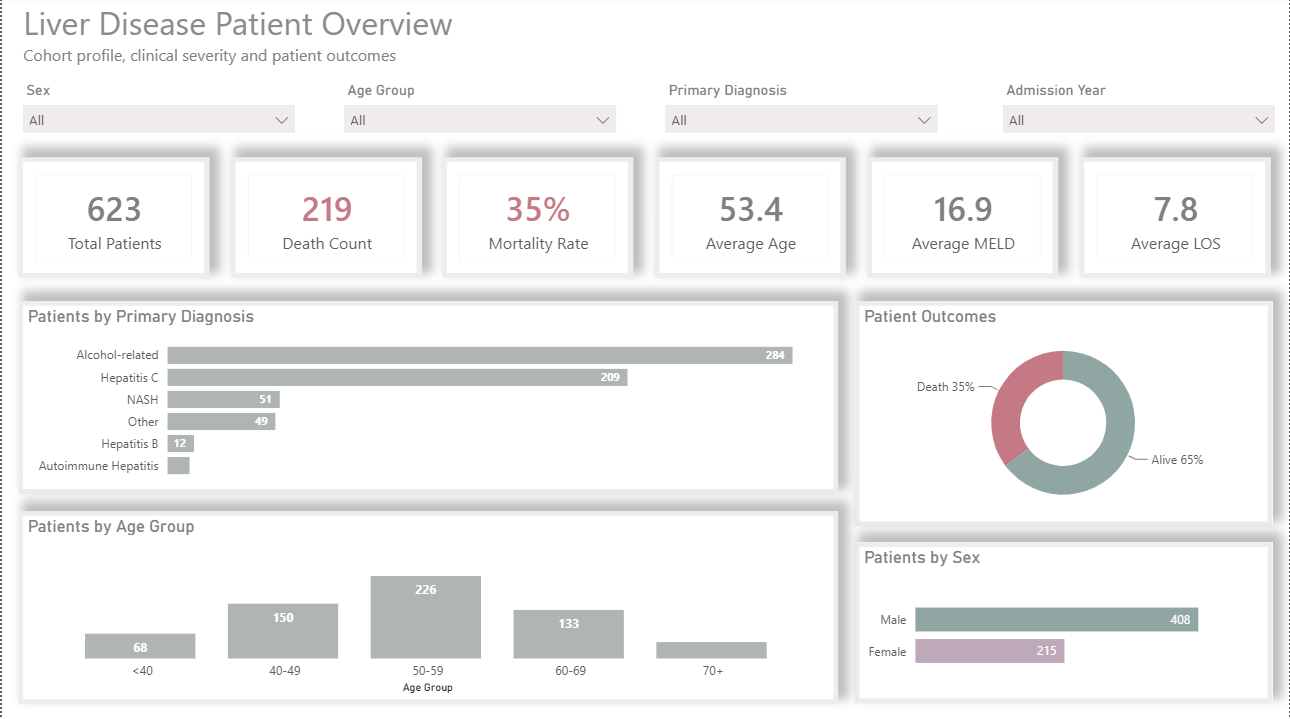

The dashboard page shown, as its layout file describes it:
{"tool":"powerbi","page":{"name":"Overview","canvas":[1280,720],"ordinal":0},"visuals":[{"type":"cardVisual","fields":{"Data":["Measures (2).Total Patients"]},"box":[16,160,190,120],"z":0},{"type":"cardVisual","fields":{"Data":["Measures (2).Death Count"]},"box":[227.2,160,190,120],"z":1000},{"type":"cardVisual","fields":{"Data":["Measures (2).Mortality Rate"]},"box":[438.4,160,190,120],"z":2000},{"type":"cardVisual","fields":{"Data":["Measures (2).Average Age"]},"box":[649.6,160,190,120],"z":3000},{"type":"cardVisual","fields":{"Data":["Measures (2).Average MELD"]},"box":[860.8,160,190,120],"z":4000},{"type":"cardVisual","fields":{"Data":["Measures (2).Average LOS"]},"box":[1072,160,190,120],"z":5000},{"type":"textbox","box":[16,0,656,80],"z":6000},{"type":"slicer","fields":{"Values":["Liver_Data.Sex"]},"box":[16,85,280,60],"z":7000},{"type":"slicer","fields":{"Values":["Liver_Data.Age_Group"]},"box":[336,85,280,60],"z":8000},{"type":"slicer","fields":{"Values":["Liver_Data.Primary_Diagnosis"]},"box":[656,85,280,60],"z":9000},{"type":"slicer","fields":{"Values":["Liver_Data.Admission_Year"]},"box":[992,85,280,60],"z":10000},{"type":"clusteredBarChart","title":"Patients by Primary Diagnosis","fields":{"Y":["KPI Measures.Total Patients"],"Category":["Liver_Data.Primary_Diagnosis"]},"box":[16,304,816,192],"z":11000},{"type":"donutChart","title":"Patient Outcomes","fields":{"Category":["Liver_Data.Outcome"],"Y":["KPI Measures.Patient Count"]},"box":[848,304,416,224],"z":12000},{"type":"barChart","title":"Patients by Sex","fields":{"Category":["Liver_Data.Sex"],"Y":["KPI Measures.Total Patients"]},"box":[848,544,416,160],"z":13000},{"type":"clusteredColumnChart","title":"Patients by Age Group","fields":{"Category":["Liver_Data.Age_Group"],"Y":["KPI Measures.Total Patients"]},"box":[16,512,816,192],"z":14000}]}

Visuals, with their boxes in screenshot pixels (x1, y1, x2, y2), scaled from the page's 1280x720 canvas onto the 1290x719 screenshot:
cardVisual - Measures (2).Total Patients: locate(16, 160, 208, 280)
cardVisual - Measures (2).Death Count: locate(229, 160, 420, 280)
cardVisual - Measures (2).Mortality Rate: locate(442, 160, 633, 280)
cardVisual - Measures (2).Average Age: locate(655, 160, 846, 280)
cardVisual - Measures (2).Average MELD: locate(868, 160, 1059, 280)
cardVisual - Measures (2).Average LOS: locate(1080, 160, 1272, 280)
textbox: locate(16, 0, 677, 80)
slicer - Liver_Data.Sex: locate(16, 85, 298, 145)
slicer - Liver_Data.Age_Group: locate(339, 85, 621, 145)
slicer - Liver_Data.Primary_Diagnosis: locate(661, 85, 943, 145)
slicer - Liver_Data.Admission_Year: locate(1000, 85, 1282, 145)
"Patients by Primary Diagnosis" clusteredBarChart: locate(16, 304, 838, 495)
"Patient Outcomes" donutChart: locate(855, 304, 1274, 527)
"Patients by Sex" barChart: locate(855, 543, 1274, 703)
"Patients by Age Group" clusteredColumnChart: locate(16, 511, 838, 703)
